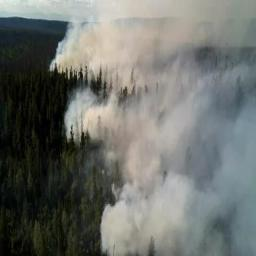Heavy smoke: (40, 3, 256, 256)
